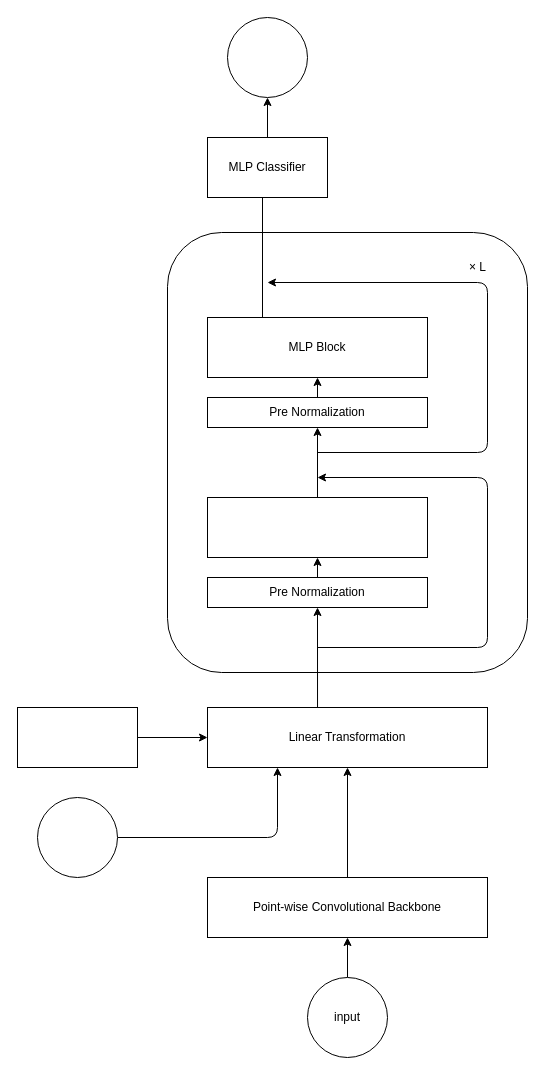
The diagram is 545 pixels wide and 1075 high, and some of its shapes have lost their labels. Here are the shapes that lost their labels. From the top down, the centre of each, then its label:
At point 267,57: "output".
At point 317,527: "Multi-Selrf Attention".
At point 77,737: "Position Embedding".
At point 77,837: "CLS Token".
